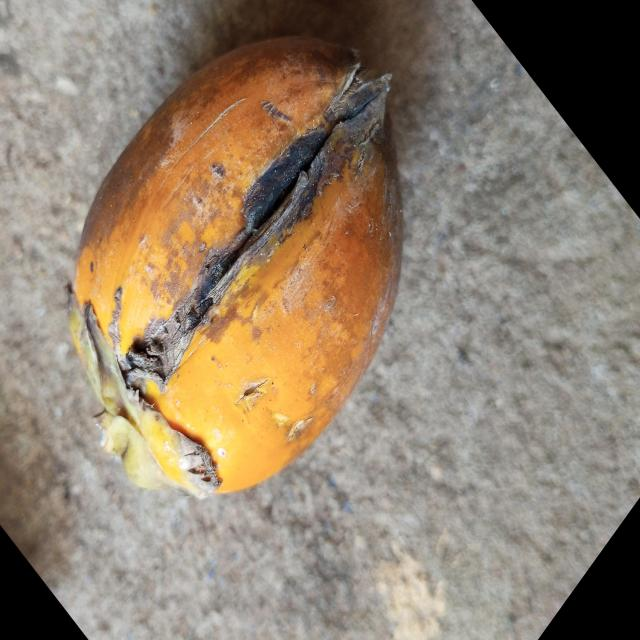damaged: (70, 37, 402, 497)
